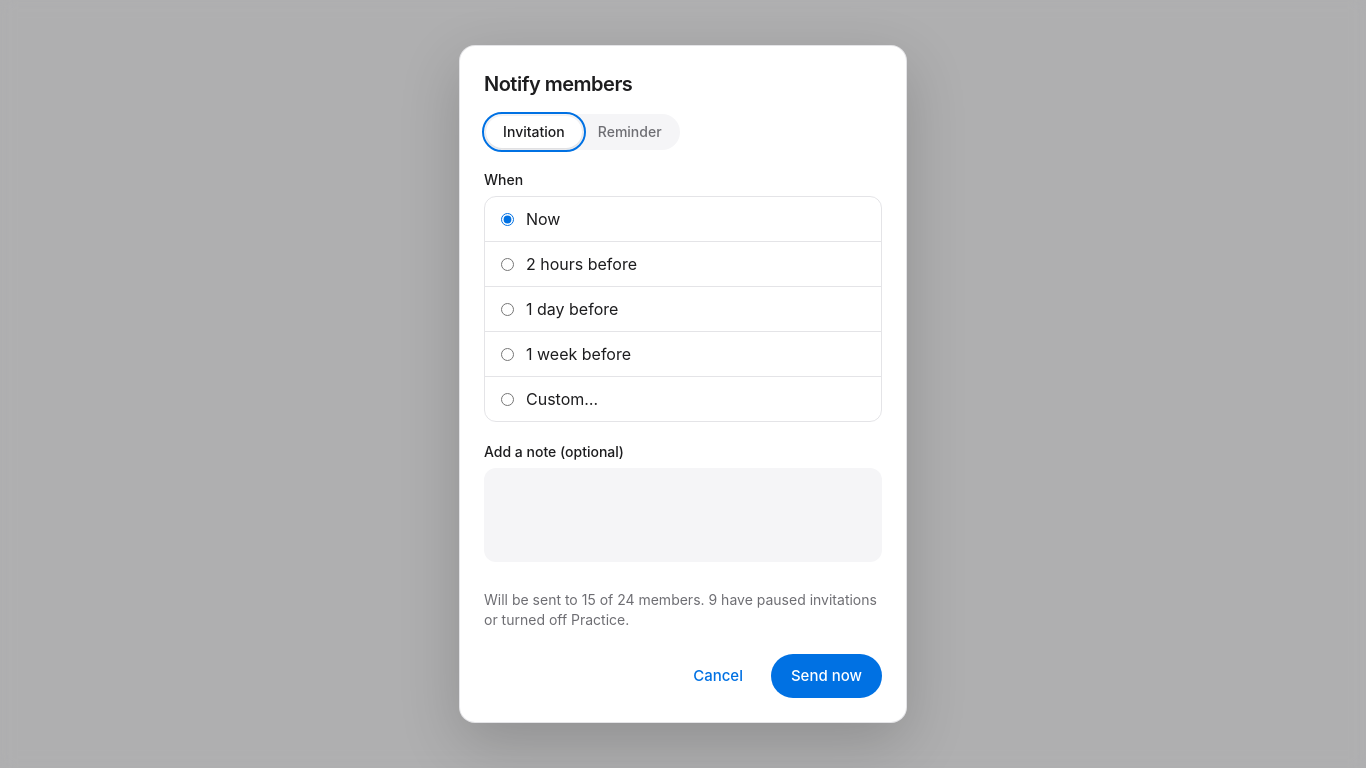
ScheduleNotificationDialog › audience by kind › says that members who cannot go are skipped, for reminders only
Click the radio button labelled "Reminder".
click(630, 132)  # box x1=582 y1=116 x2=678 y2=148
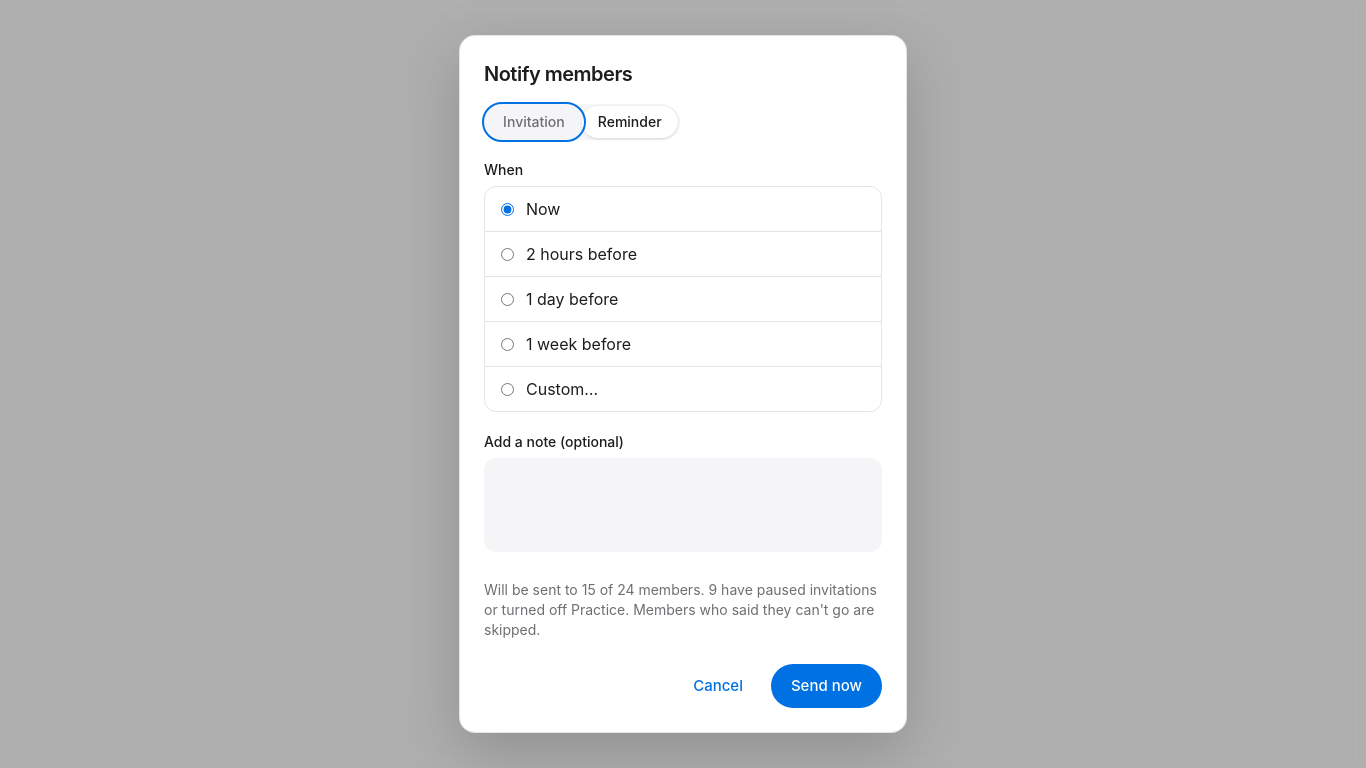
expect the text "Will be sent to 15 of 24 members. 9 have paused invitations or turned off Practice. Members who said they can't go are skipped." is shown: met, box x1=484 y1=581 x2=877 y2=638
